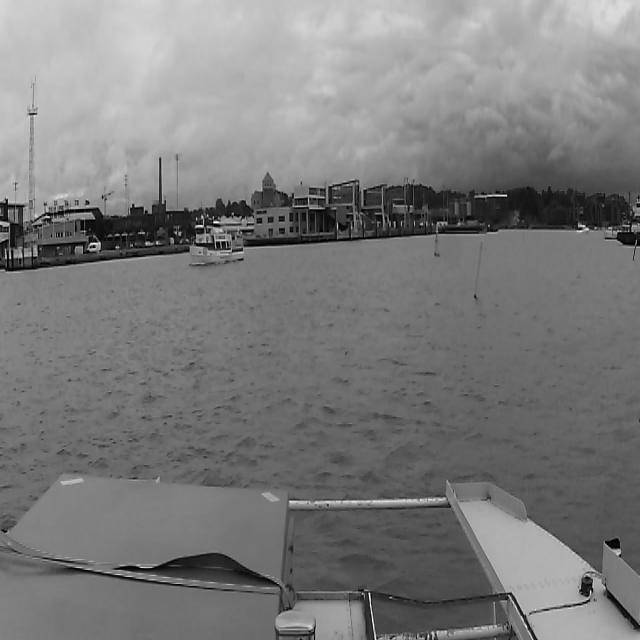buoy: (478, 239, 484, 299), (434, 223, 440, 256)
ship: (187, 220, 245, 264)
